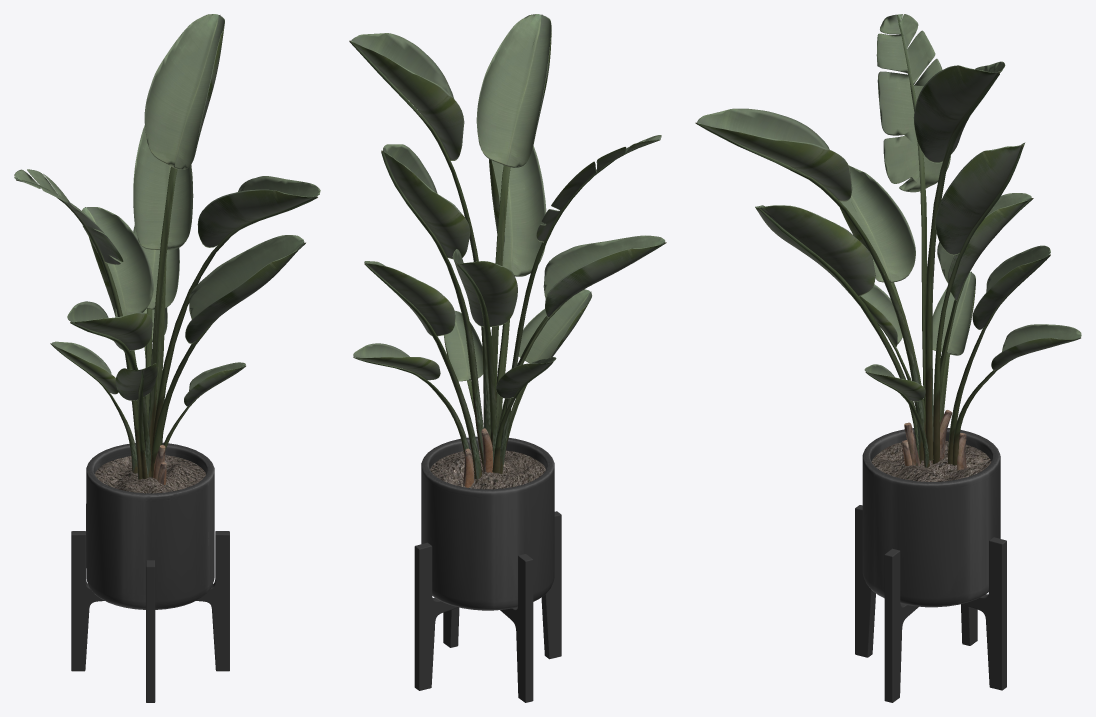
File: plant.glb
The picture shows the model from 3 angles, left to right: view 1: azimuth 30°, elevation 25°; view 2: azimuth 150°, elevation 25°; view 3: azimuth 270°, elevation 25°; orthographic projection. The views are drawn at different scales.
Visible parts, largest first — view 1: pot_26052020_3_StaticMeshComponent0, Plane072_StaticMeshComponent0, Plane075_StaticMeshComponent0, Plane073_StaticMeshComponent0, Plane068_StaticMeshComponent0, Plane076_StaticMeshComponent0, Plane074_StaticMeshComponent0, Cylinder074_StaticMeshComponent0, Plane070_StaticMeshComponent0, Cylinder073_StaticMeshComponent0, Plane080_StaticMeshComponent0, Plane077_StaticMeshComponent0 (+8 smaller); view 2: pot_26052020_3_StaticMeshComponent0, Plane068_StaticMeshComponent0, Plane072_StaticMeshComponent0, Plane075_StaticMeshComponent0, Plane074_StaticMeshComponent0, Plane073_StaticMeshComponent0, Plane076_StaticMeshComponent0, Plane077_StaticMeshComponent0, Plane079_StaticMeshComponent0, Cylinder075_StaticMeshComponent0, Cylinder074_StaticMeshComponent0, Plane070_StaticMeshComponent0 (+11 smaller); view 3: pot_26052020_3_StaticMeshComponent0, Plane070_StaticMeshComponent0, Plane068_StaticMeshComponent0, Plane072_StaticMeshComponent0, Plane075_StaticMeshComponent0, Plane073_StaticMeshComponent0, Plane074_StaticMeshComponent0, Cylinder074_StaticMeshComponent0, Plane076_StaticMeshComponent0, Plane077_StaticMeshComponent0, Cylinder073_StaticMeshComponent0, Plane078_StaticMeshComponent0 (+9 smaller).
Part boxes in pixels (box(x1,y1,x2,y2)): pot_26052020_3_StaticMeshComponent0: box(71, 442, 229, 702); Plane072_StaticMeshComponent0: box(144, 14, 224, 169); Plane075_StaticMeshComponent0: box(185, 235, 304, 343); Plane073_StaticMeshComponent0: box(133, 125, 193, 250); Plane068_StaticMeshComponent0: box(197, 176, 320, 247); Plane076_StaticMeshComponent0: box(82, 207, 153, 317); Plane074_StaticMeshComponent0: box(67, 301, 152, 350); Cylinder074_StaticMeshComponent0: box(148, 15, 220, 461); Plane070_StaticMeshComponent0: box(14, 169, 123, 264); Cylinder073_StaticMeshComponent0: box(151, 196, 317, 470); Plane080_StaticMeshComponent0: box(51, 341, 118, 394); Plane077_StaticMeshComponent0: box(133, 224, 179, 309); pot_26052020_3_StaticMeshComponent0: box(414, 436, 561, 702); Plane068_StaticMeshComponent0: box(476, 14, 551, 167); Plane072_StaticMeshComponent0: box(351, 33, 464, 160); Plane075_StaticMeshComponent0: box(489, 145, 546, 276); Plane074_StaticMeshComponent0: box(543, 235, 665, 317); Plane073_StaticMeshComponent0: box(383, 144, 470, 259); Plane076_StaticMeshComponent0: box(452, 249, 517, 327); Plane077_StaticMeshComponent0: box(364, 261, 455, 336); Plane079_StaticMeshComponent0: box(518, 289, 592, 363); Cylinder075_StaticMeshComponent0: box(381, 150, 483, 468); Cylinder074_StaticMeshComponent0: box(349, 40, 490, 438); Plane070_StaticMeshComponent0: box(536, 135, 661, 242); pot_26052020_3_StaticMeshComponent0: box(855, 428, 1006, 702); Plane070_StaticMeshComponent0: box(876, 14, 950, 192); Plane068_StaticMeshComponent0: box(697, 108, 852, 201); Plane072_StaticMeshComponent0: box(913, 61, 1005, 163); Plane075_StaticMeshComponent0: box(755, 205, 875, 296); Plane073_StaticMeshComponent0: box(935, 142, 1025, 255); Plane074_StaticMeshComponent0: box(840, 165, 915, 282); Cylinder074_StaticMeshComponent0: box(925, 72, 999, 460); Plane076_StaticMeshComponent0: box(937, 193, 1031, 300); Plane077_StaticMeshComponent0: box(972, 245, 1050, 329); Cylinder073_StaticMeshComponent0: box(695, 122, 926, 460); Plane078_StaticMeshComponent0: box(991, 324, 1081, 370).
Size of the model in its own units: 0.5227 by 1.2 by 0.646.
Materials: 7 (6 with a texture image).
